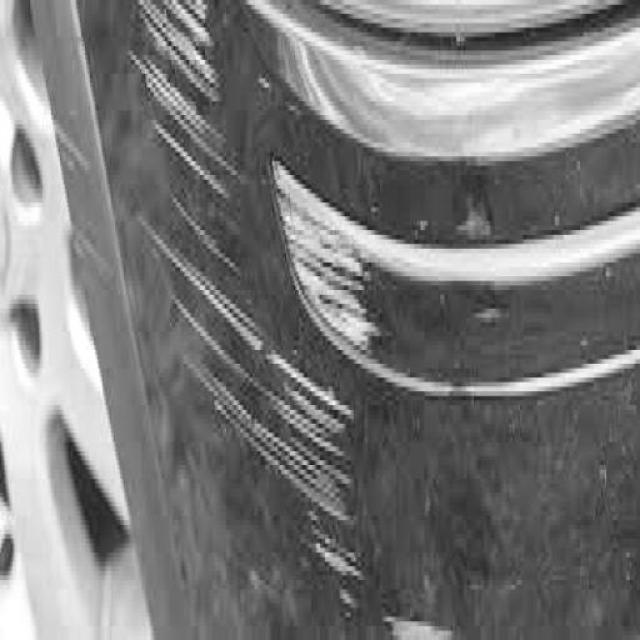car damage: (133, 5, 364, 622), (272, 166, 375, 359)
